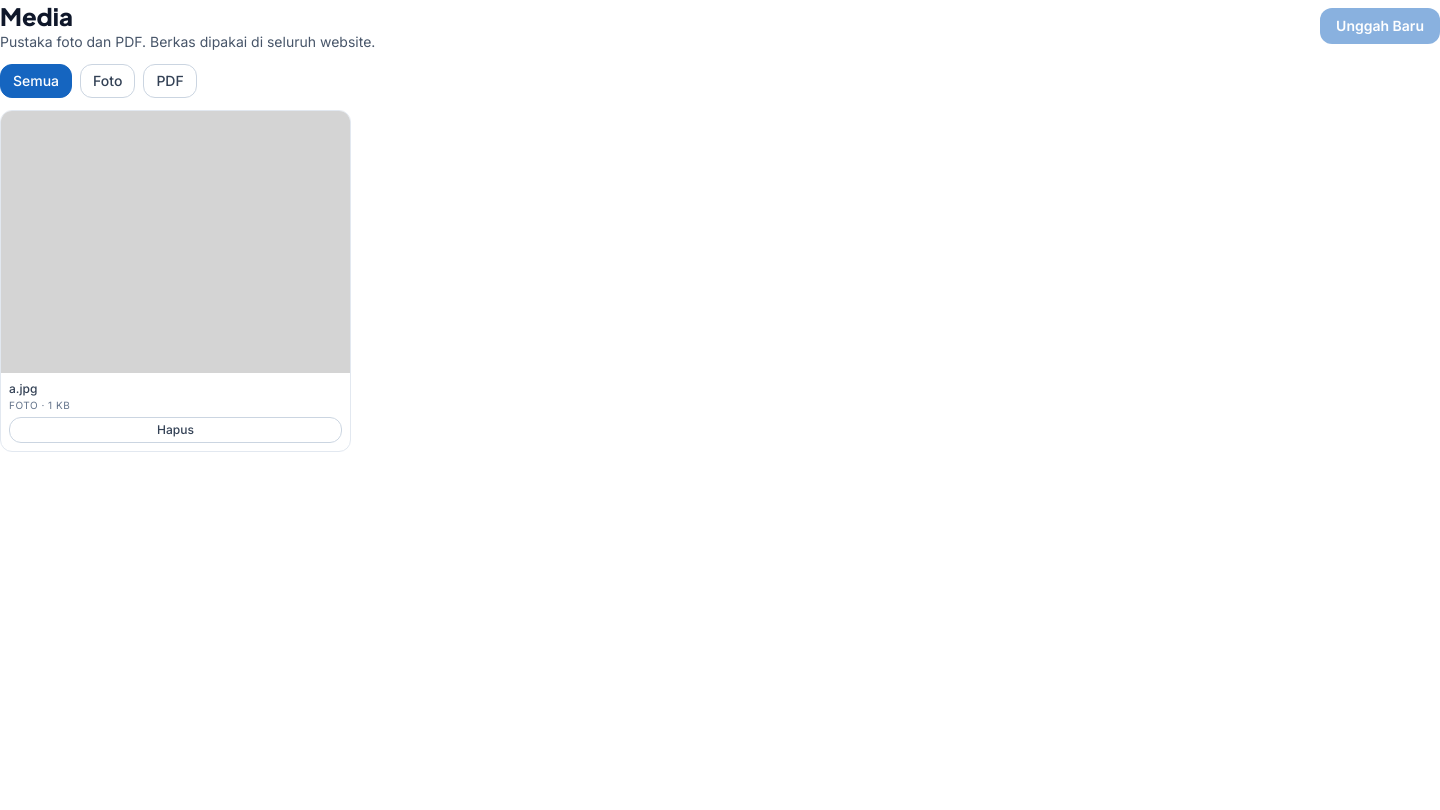
Scenario: MediaManager › safe delete: usage-blocked path shows the usage list modal
Expected: the text "a.jpg" is shown, [9,381,37,396]
Click the button "Hapus": (176, 430) [9,417,342,443]
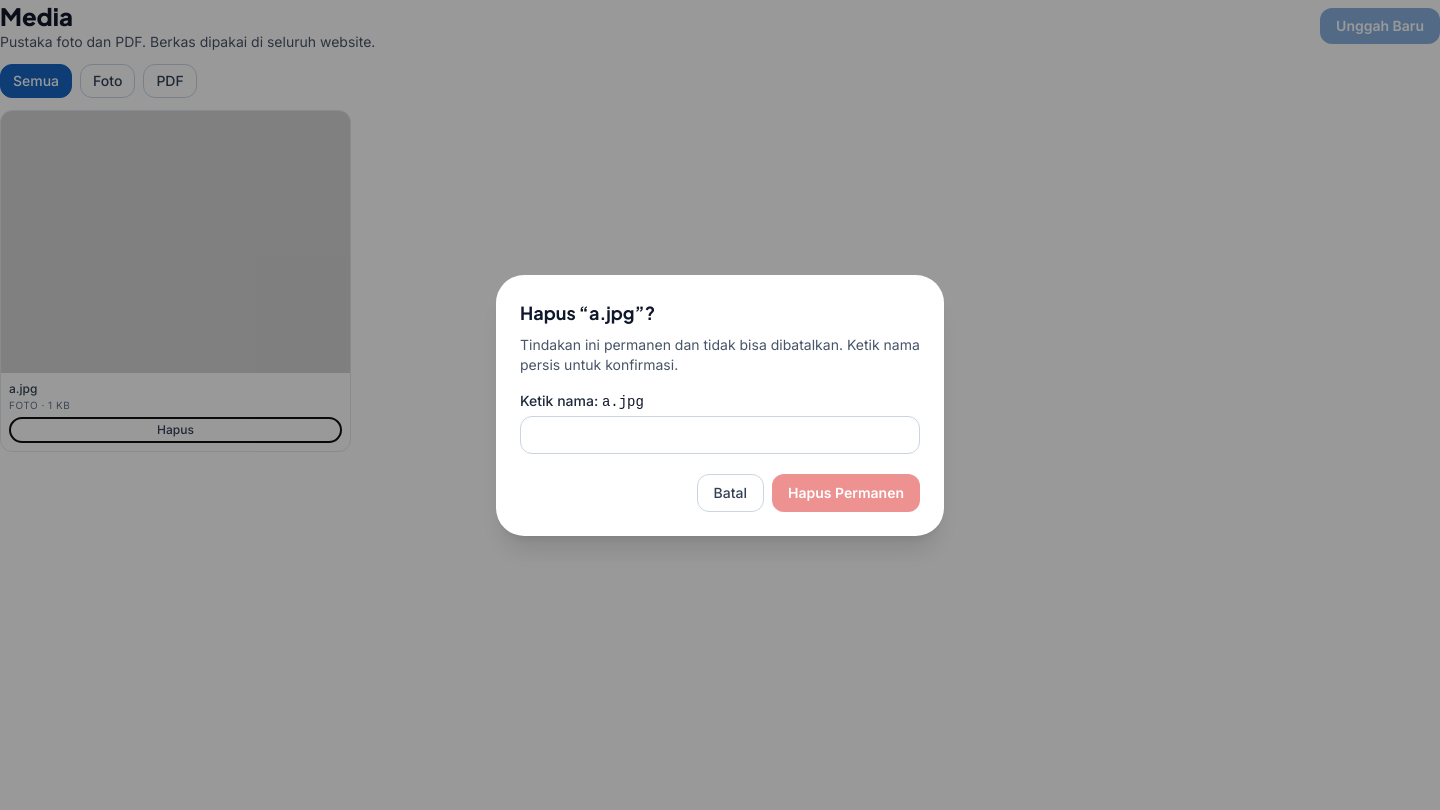
In the field: (720, 434) [520,416,920,454], type "a.jpg"
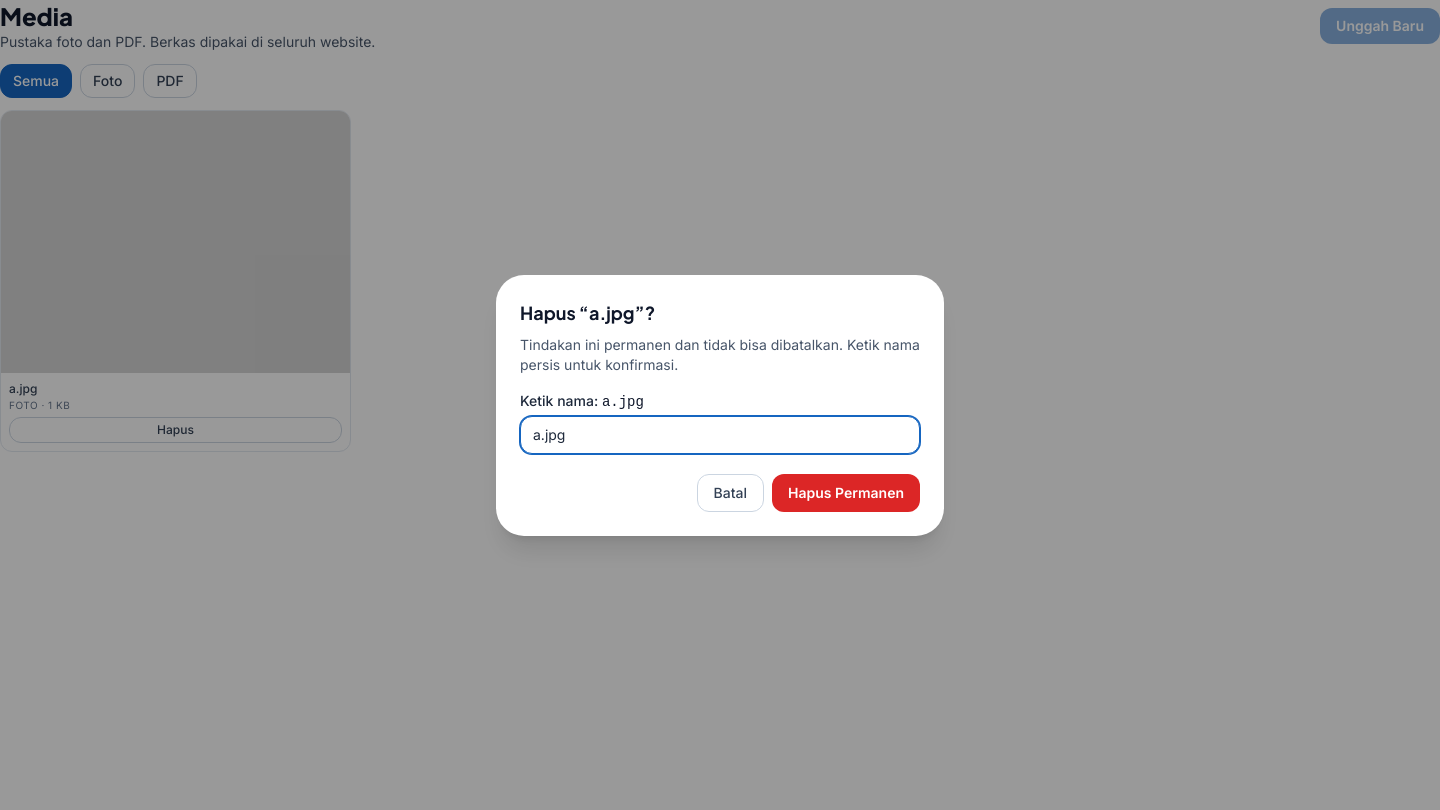
Click the button "Hapus Permanen": (846, 492) [772,474,920,512]
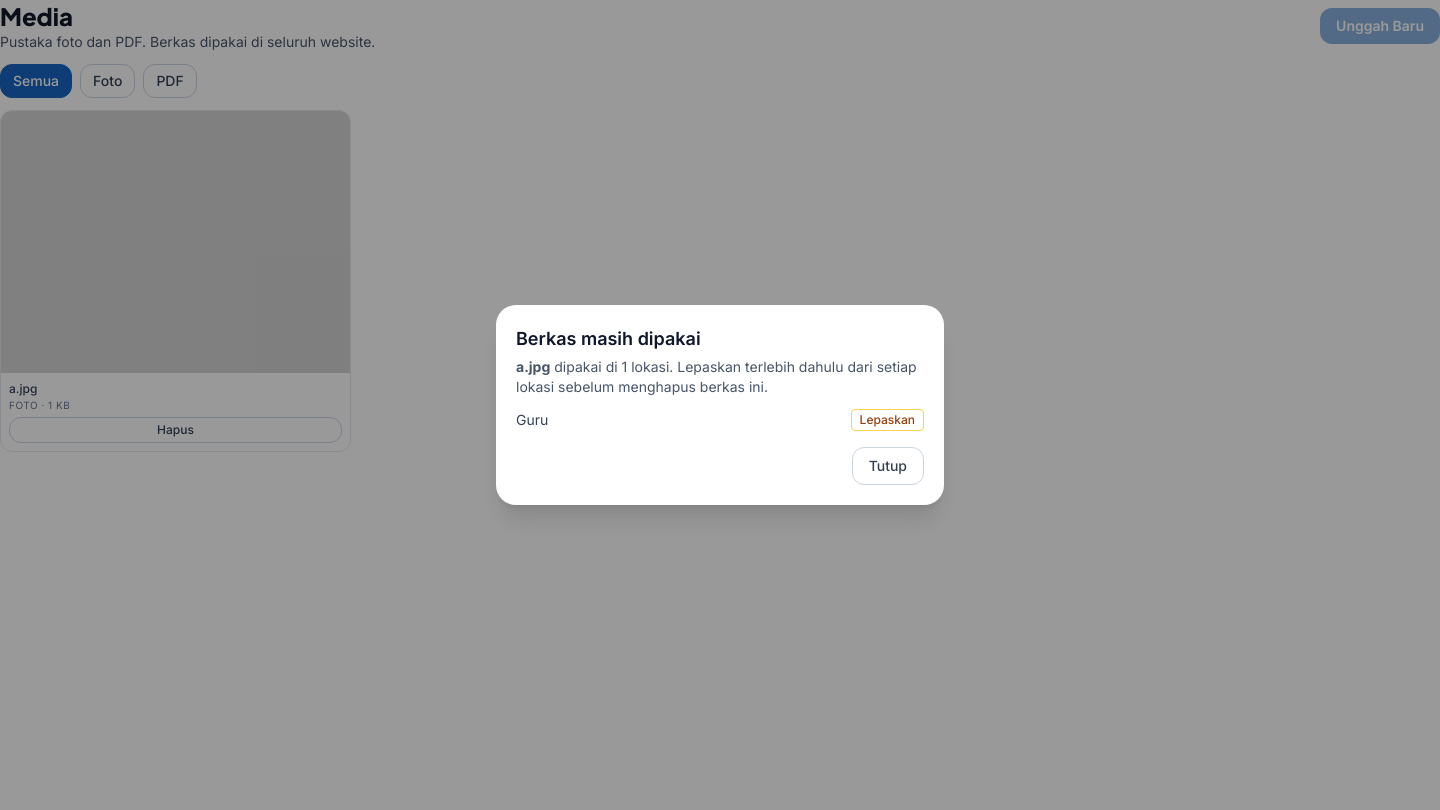
Expected: the dialog "Berkas masih dipakai" is shown
Expected: the text "Guru" is shown, [516,410,548,430]
